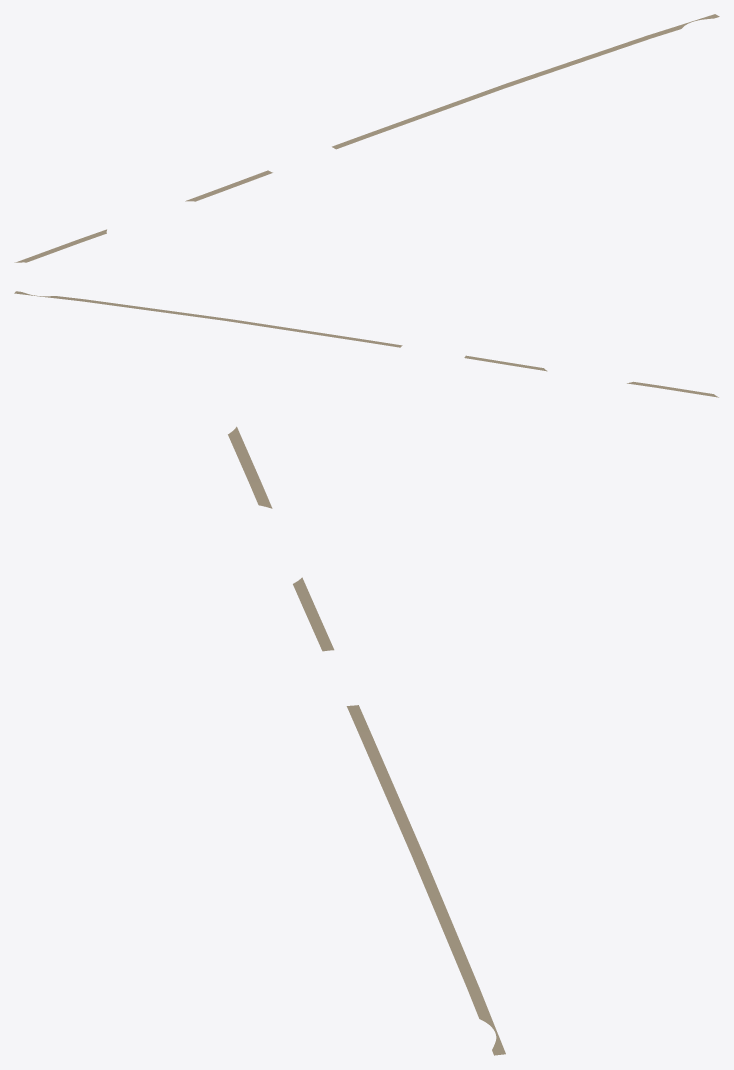
Rendered from farm_23_13_track.glb.
3 views of the same model, one above another, from view 1: azimuth 30°, elevation 25°; view 2: azimuth 150°, elevation 25°; view 3: azimuth 270°, elevation 25° (orthographic). The views are drawn at different scales.
Visible parts, largest first — view 1: geometry_0; view 2: geometry_0; view 3: geometry_0.
Part boxes in pixels (x1,y1,x2,y2): geometry_0: (14, 14, 719, 262); geometry_0: (14, 291, 718, 397); geometry_0: (228, 426, 505, 1055).
Bounding box in the file's own units: 394 × 2.74 × 74.31.
